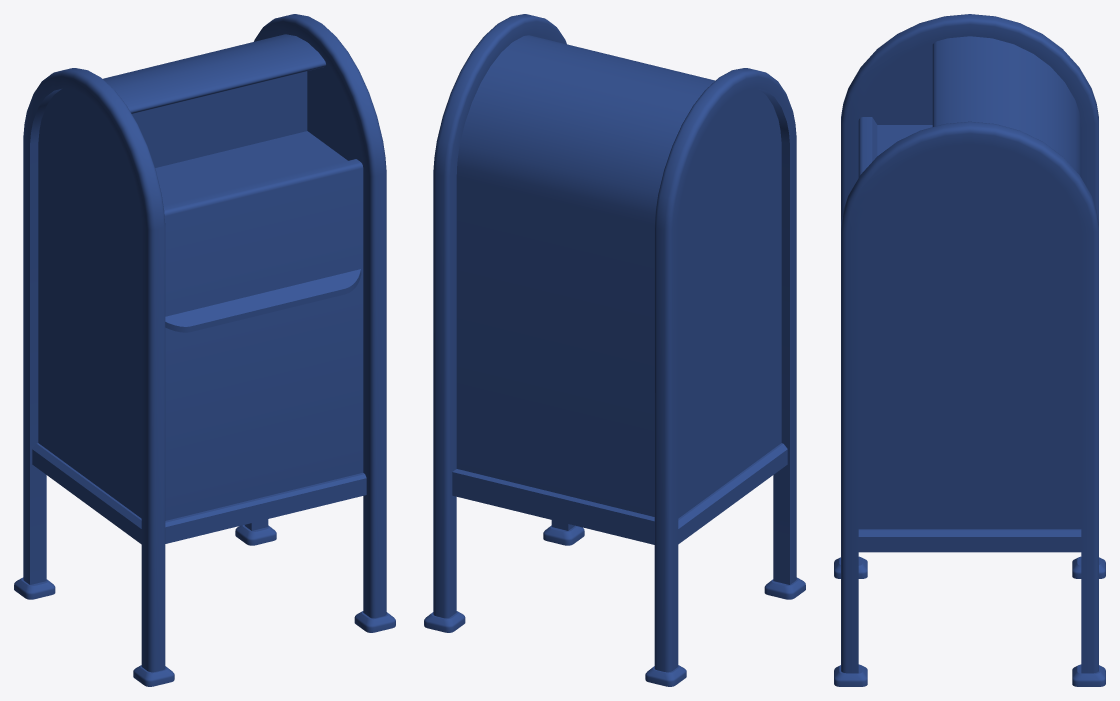
The model's file is rua_mailbox.glb.
The picture shows the model from 3 angles, left to right: view 1: azimuth 30°, elevation 25°; view 2: azimuth 150°, elevation 25°; view 3: azimuth 270°, elevation 25°; orthographic projection.
Parts seen in each view (by area): view 1: SM_Mailbox; view 2: SM_Mailbox; view 3: SM_Mailbox.
Boxes of the visible parts, left/top/right/bottom form: SM_Mailbox: left=14, top=14, right=395, bottom=686; SM_Mailbox: left=424, top=14, right=805, bottom=686; SM_Mailbox: left=834, top=14, right=1105, bottom=686.
Size of what is drawn, in the model's own units: 0.4204 by 0.8923 by 0.3953.
